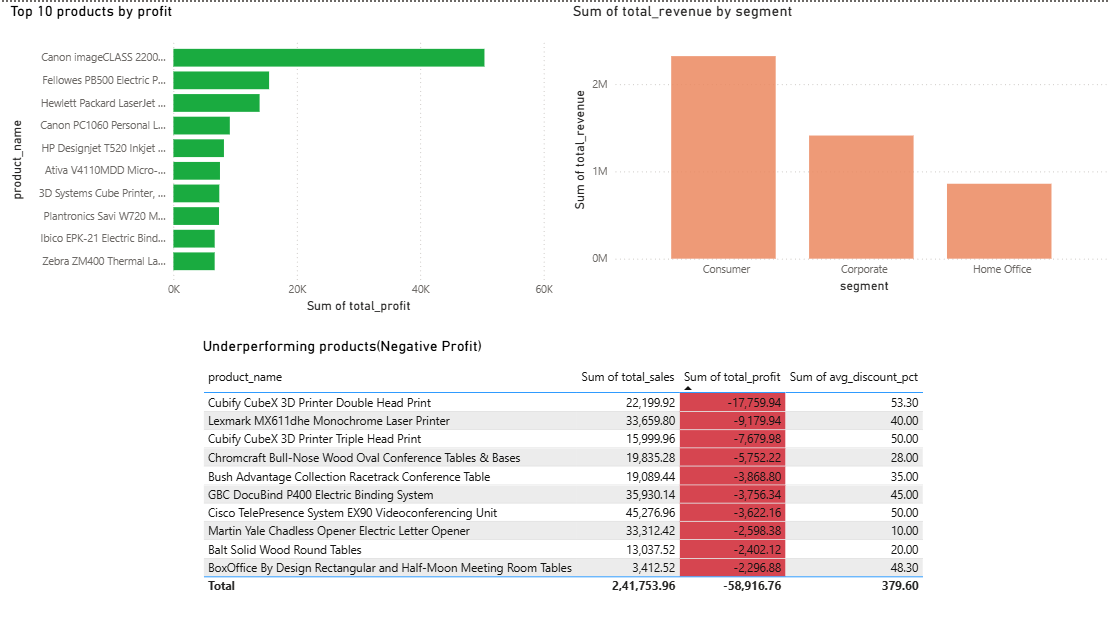

This screenshot's page, from the dashboard's own definition file:
{"tool":"powerbi","page":{"name":"Producs & Segments","canvas":[1280,720],"ordinal":1},"visuals":[{"type":"clusteredBarChart","title":"Top 10 products by profit","fields":{"Category":["top_products_profit.product_name"],"Y":["Sum(top_products_profit.total_profit)"]},"box":[10,0,630,360],"z":0},{"type":"tableEx","title":"Underperforming products(Negative Profit)","fields":{"Values":["underperforming_products.product_name","Sum(underperforming_products.total_sales)","Sum(underperforming_products.total_profit)","Sum(underperforming_products.avg_discount_pct)"]},"box":[230,382.9,847.1,325.7],"z":1000},{"type":"clusteredColumnChart","fields":{"Category":["customer_segments.segment"],"Y":["Sum(customer_segments.total_revenue)"]},"box":[652.9,0,627.1,337.1],"z":2000}]}

Visuals, with their boxes in screenshot pixels (x1, y1, x2, y2), scaled from the page's 1280x720 canvas onto the 1110x623 screenshot:
"Top 10 products by profit" clusteredBarChart: 9,0,555,312
"Underperforming products(Negative Profit)" tableEx: 199,331,934,613
clusteredColumnChart - customer_segments.segment x Sum(customer_segments.total_revenue): 566,0,1109,292
